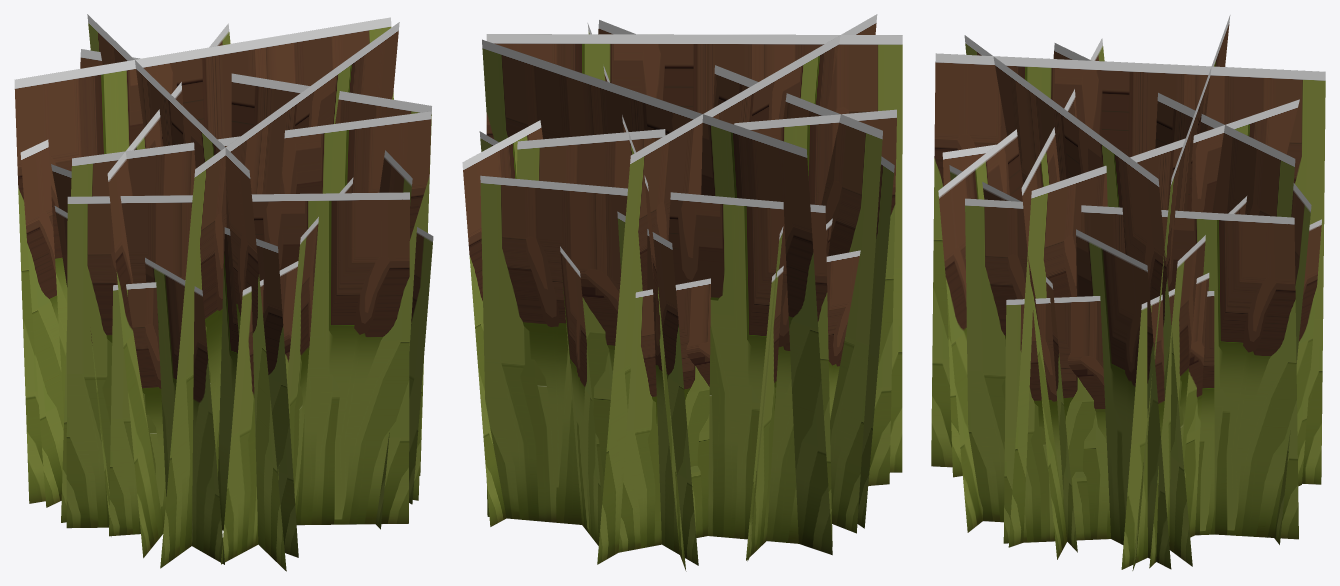
Rendered from SM_Reeds.fbx.
3 renders of one model, left to right at view 1: azimuth 30°, elevation 25°; view 2: azimuth 150°, elevation 25°; view 3: azimuth 270°, elevation 25°, orthographic. The views are drawn at different scales.
Visible parts, largest first — view 1: SM_Reeds; view 2: SM_Reeds; view 3: SM_Reeds.
Boxes of the visible parts, left/top/right/bottom form: SM_Reeds: left=14, top=14, right=433, bottom=571; SM_Reeds: left=462, top=14, right=902, bottom=571; SM_Reeds: left=931, top=15, right=1325, bottom=570.
Size of the model in its own units: 155 by 164 by 148.
